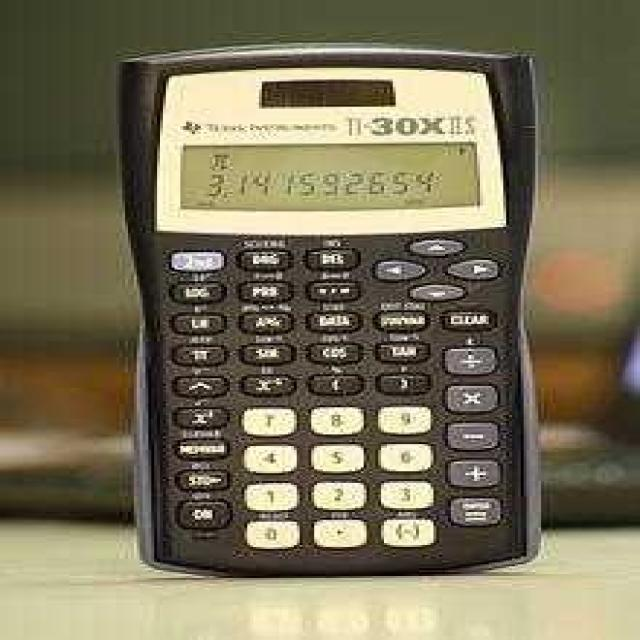Calculator: (113, 41, 544, 578)
